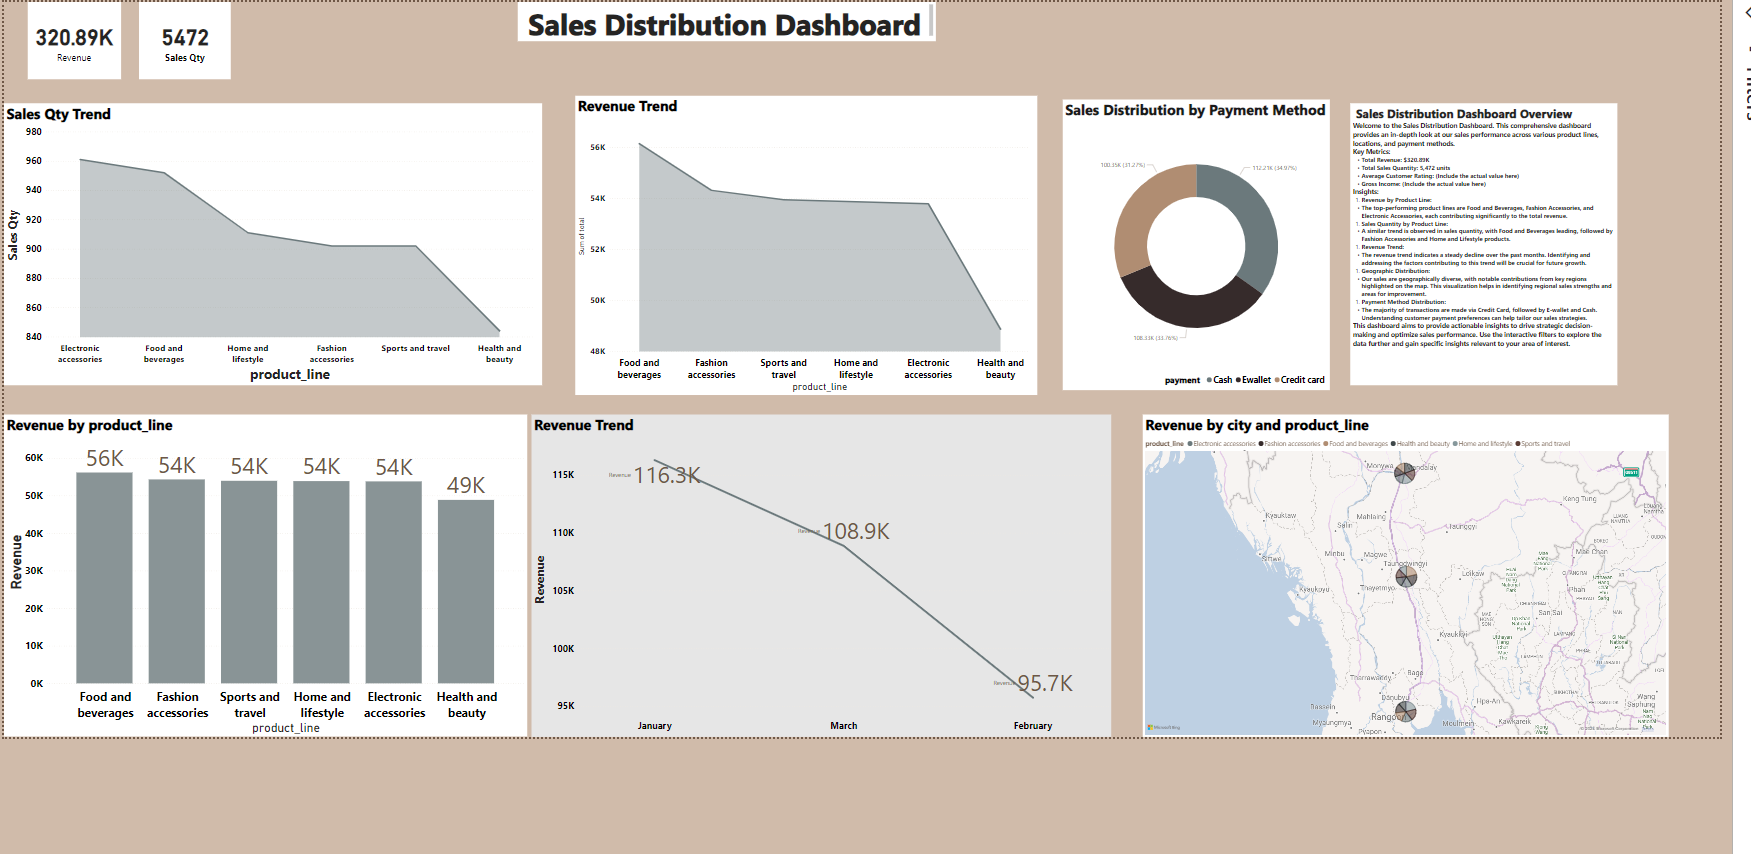

This screenshot's page, from the dashboard's own definition file:
{"tool":"powerbi","page":{"name":"Page 1","canvas":[3500,1500],"ordinal":0},"visuals":[{"type":"card","fields":{"Values":["Sum(super_market sales sales.total)"]},"box":[47.5,0,190,157.5],"z":0},{"type":"card","fields":{"Values":["Sum(super_market sales sales.quantity)"]},"box":[275,0,187.5,157.5],"z":1000},{"type":"lineChart","title":"Revenue Trend","fields":{"Y":["Sum(super_market sales sales.total)"],"Category":["super_market sales sales.month_name"]},"box":[1075,842.5,1182.5,657.5],"z":2000},{"type":"map","fields":{"Category":["super_market sales sales.city"],"Series":["super_market sales sales.product_line"],"Size":["Sum(super_market sales sales.total)"]},"box":[2322.5,842.5,1072.5,657.5],"z":3000},{"type":"areaChart","title":"Sales Qty Trend","fields":{"Category":["super_market sales sales.product_line"],"Y":["Sum(super_market sales sales.quantity)"]},"box":[0,207.5,1097.5,575],"z":4000},{"type":"columnChart","fields":{"Category":["super_market sales sales.product_line"],"Y":["Sum(super_market sales sales.total)"]},"box":[0,842.3,1067.3,656.6],"z":5000},{"type":"donutChart","title":"Sales Distribution by Payment Method","fields":{"Y":["Sum(super_market sales sales.total)"],"Category":["super_market sales sales.payment"]},"box":[2160,200,545,592.5],"z":6000},{"type":"areaChart","title":"Revenue Trend","fields":{"Y":["Sum(super_market sales sales.total)"],"Category":["super_market sales sales.product_line"]},"box":[1165,190,942.5,610],"z":7000},{"type":"textbox","box":[1047.5,0,852.5,80],"z":8000},{"type":"textbox","box":[2745,207.5,545,575],"z":9000}]}

Visuals, with their boxes in screenshot pixels (x1, y1, x2, y2):
card - Sum(super_market sales sales.total): <region>19, 0, 113, 73</region>
card - Sum(super_market sales sales.quantity): <region>131, 0, 224, 73</region>
"Revenue Trend" lineChart: <region>526, 411, 1109, 735</region>
map - super_market sales sales.city x super_market sales sales.product_line: <region>1141, 411, 1670, 735</region>
"Sales Qty Trend" areaChart: <region>0, 98, 537, 382</region>
columnChart - super_market sales sales.product_line x Sum(super_market sales sales.total): <region>0, 411, 522, 735</region>
"Sales Distribution by Payment Method" donutChart: <region>1061, 94, 1330, 386</region>
"Revenue Trend" areaChart: <region>570, 89, 1035, 390</region>
textbox: <region>512, 0, 933, 35</region>
textbox: <region>1350, 98, 1619, 382</region>
